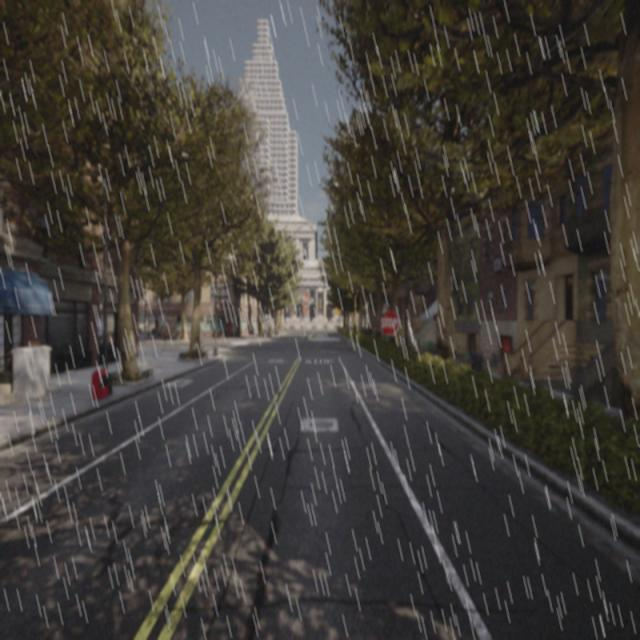stop sign: (378, 306, 402, 338)
